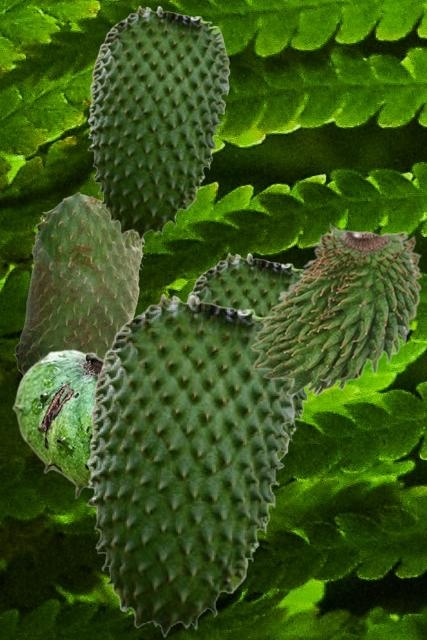guyabano: (86, 293, 295, 636), (87, 5, 229, 239), (249, 222, 422, 395), (186, 252, 308, 460), (13, 191, 145, 374), (12, 349, 102, 498)
